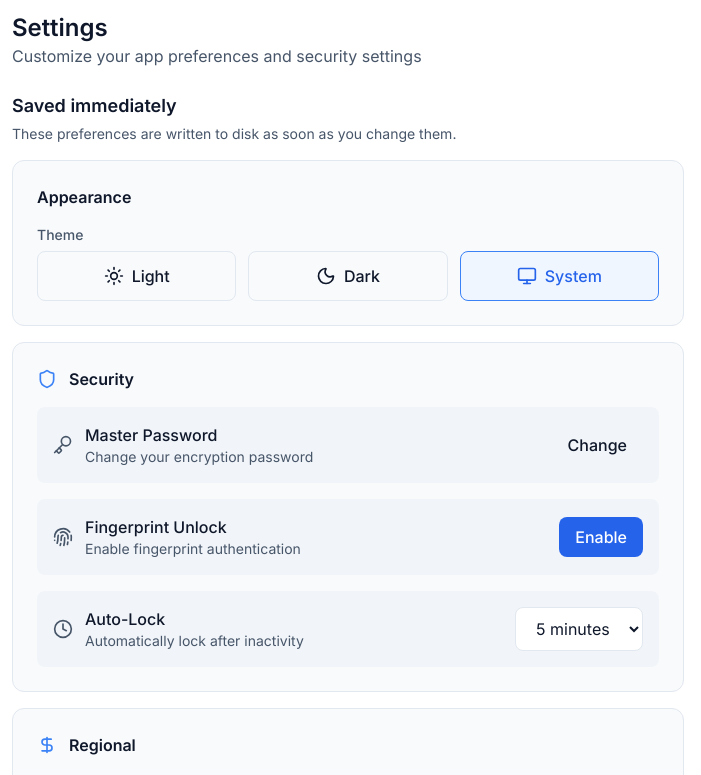
Test case: SettingsPage › hostile › shows biometric success message when enable succeeds
Click the button "Enable" at (601, 537), box [559,517,643,557]
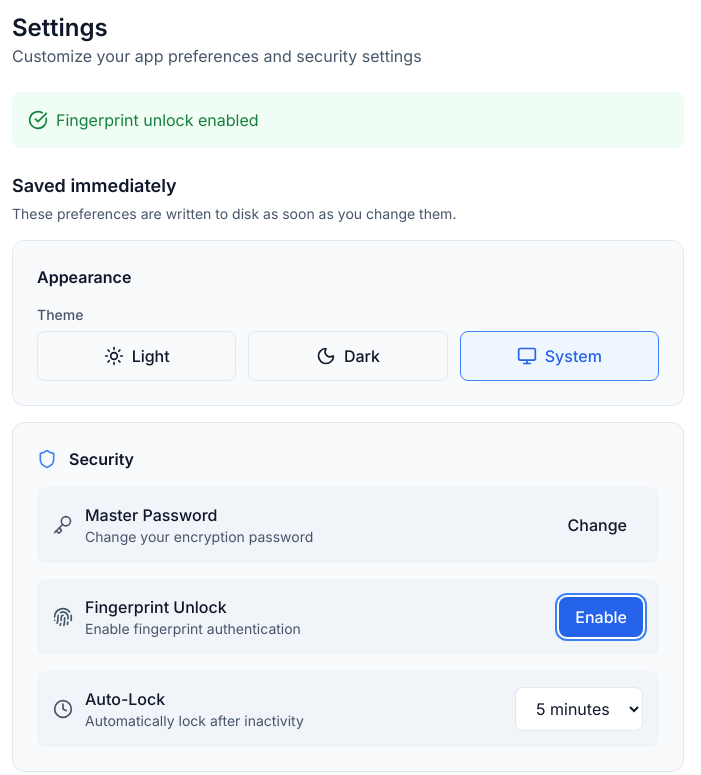
Result: the text "Fingerprint unlock enabled" is shown at [12,92,684,148]
